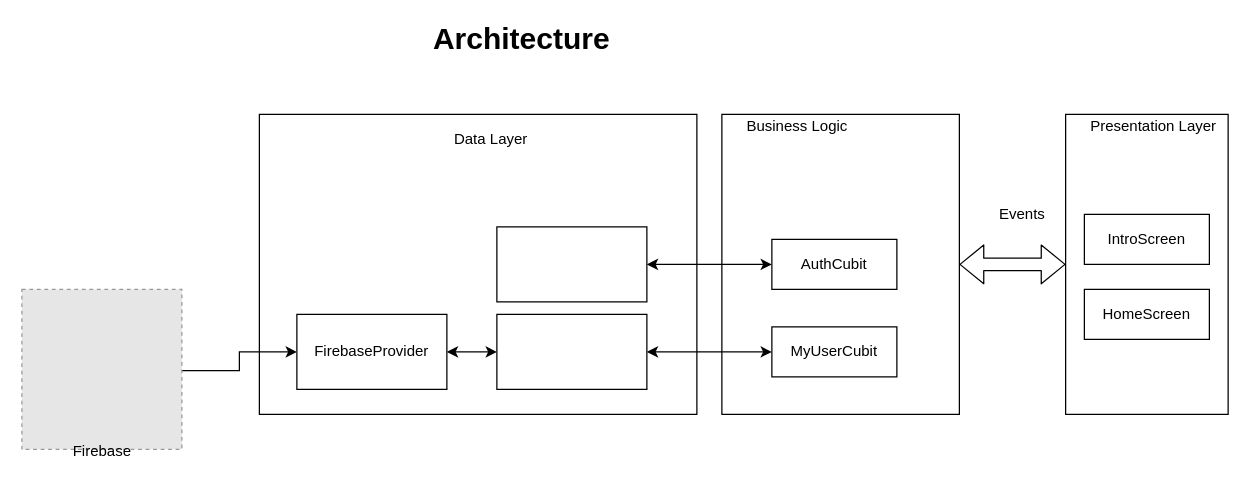
Some shapes in this 1250 by 486 pixel diagram are drawn without their labels. Grey dashed boxes stand in for pictures. Each missing label, with the box of its shape:
AuthRepository: (496, 226, 647, 302)
MyUserRepository: (496, 313, 647, 389)
